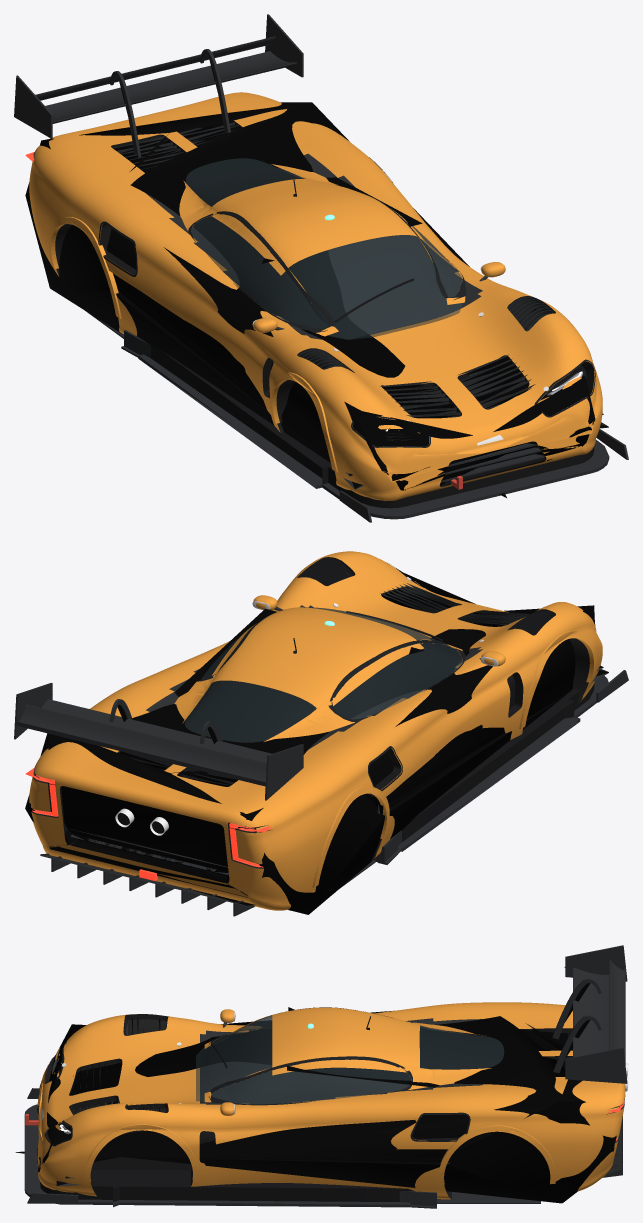
The model's file is mclaren.glb.
3 views of the same model, one above another, from view 1: azimuth 30°, elevation 25°; view 2: azimuth 150°, elevation 25°; view 3: azimuth 270°, elevation 25° (orthographic). The views are drawn at different scales.
Visible parts, largest first — view 1: Body, Shadow, Carbon, Cabin, Paint, Grille, Trim; view 2: Body, Shadow, Carbon, Paint, Cabin, Grille, Trim, LightR, Chrome; view 3: Body, Shadow, Carbon, Paint, Cabin, Grille, Trim.
Part boxes in pixels (x1,y1,x2,y2): Body: (29, 92, 602, 500); Shadow: (25, 39, 608, 497); Carbon: (14, 14, 628, 522); Cabin: (186, 158, 462, 339); Paint: (48, 164, 505, 472); Grille: (151, 179, 594, 508); Trim: (98, 157, 595, 447); Body: (29, 551, 602, 910); Shadow: (25, 572, 608, 914); Carbon: (14, 558, 628, 916); Paint: (174, 595, 596, 887); Cabin: (184, 607, 462, 742); Grille: (293, 611, 594, 842); Trim: (196, 567, 595, 791); LightR: (26, 767, 271, 880); Chrome: (115, 577, 498, 835); Body: (37, 1002, 625, 1199); Shadow: (15, 967, 624, 1203); Carbon: (24, 945, 627, 1208); Paint: (85, 1007, 555, 1184); Cabin: (196, 1016, 504, 1104); Grille: (40, 1016, 414, 1201); Trim: (44, 1007, 470, 1146).
Size of the model in its own units: 2.11 by 1.36 by 4.81.
